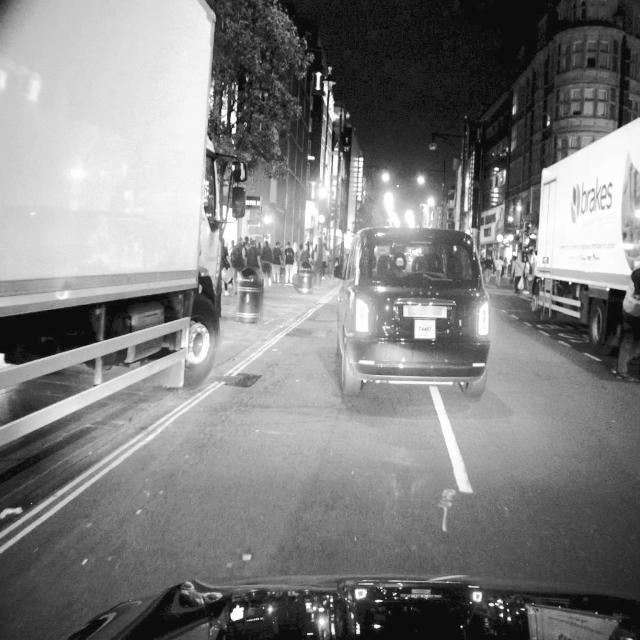Truck: (0, 0, 247, 450), (531, 115, 640, 355)
